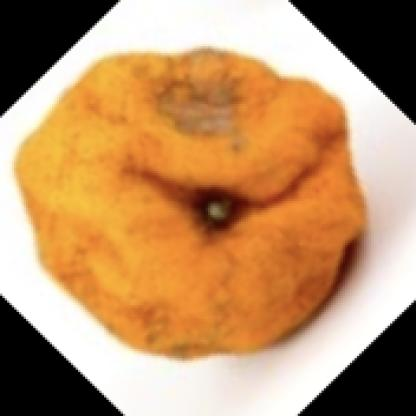rotten: (17, 50, 371, 357)
